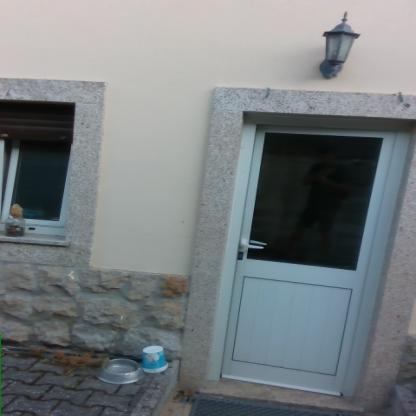closed: (203, 91, 416, 406)
